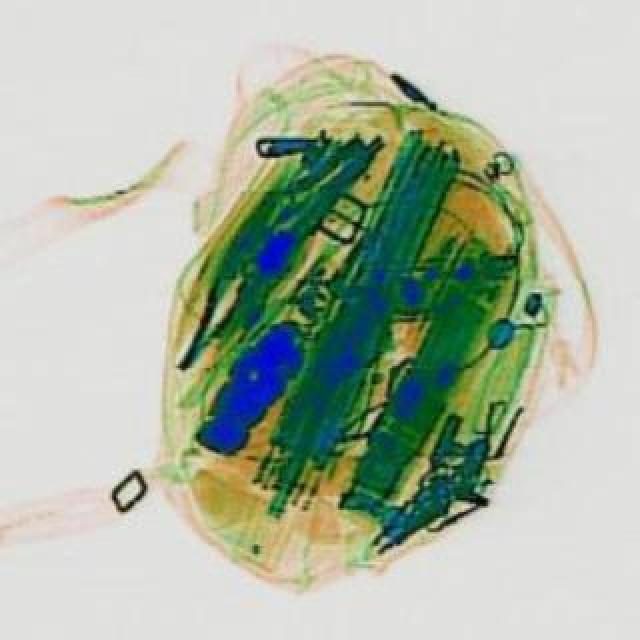wrench: (160, 266, 252, 376)
